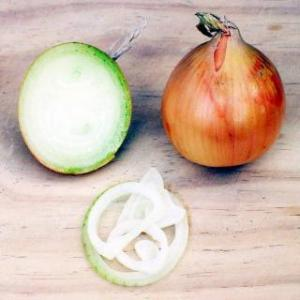onion: (162, 20, 286, 176), (18, 40, 134, 176)
